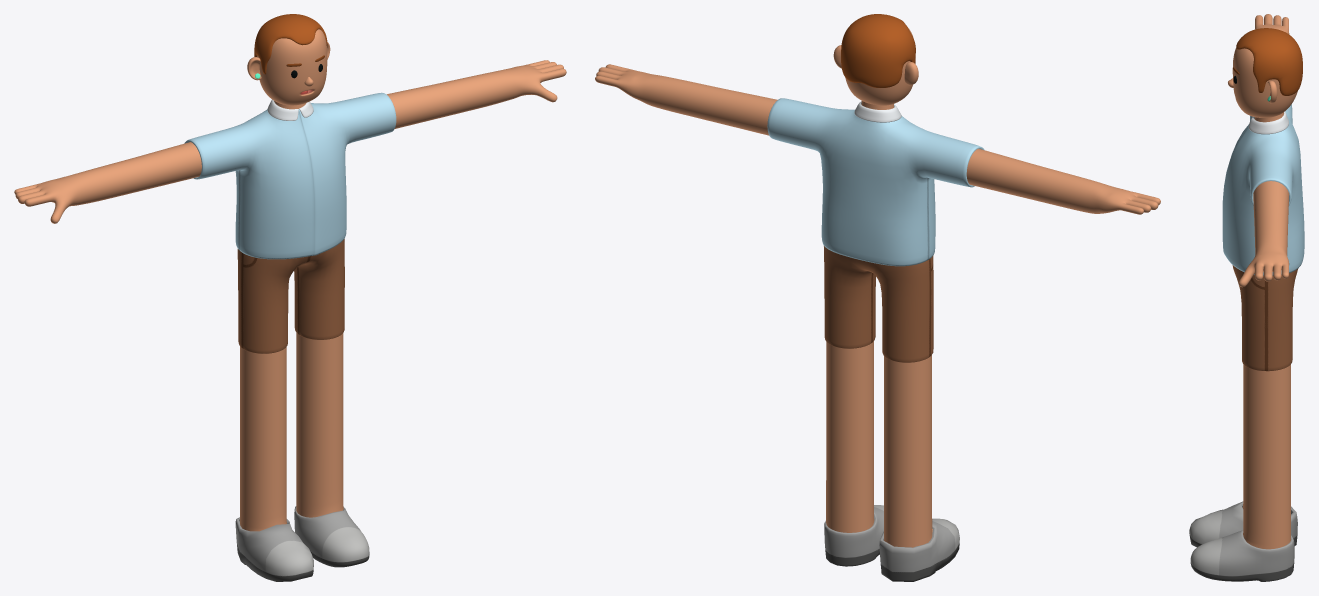
The model's file is BOY 2.fbx.
3 views of the same model, side by side, from view 1: azimuth 30°, elevation 25°; view 2: azimuth 150°, elevation 25°; view 3: azimuth 270°, elevation 25° (orthographic). The views are drawn at different scales.
Visible parts, largest first — view 1: BOY_BODY.002, BOY 2_SHIRT, BOY 2_SHORTS, BOY_2_SHOES.R, BOY_2_SHOES.L, BOY 2_HAIR; view 2: BOY_BODY.002, BOY 2_SHIRT, BOY 2_SHORTS, BOY 2_HAIR, BOY_2_SHOES.R, BOY_2_SHOES.L; view 3: BOY_BODY.002, BOY 2_SHIRT, BOY 2_SHORTS, BOY_2_SHOES.L, BOY 2_HAIR, BOY_2_SHOES.R.
Part boxes in pixels (left/top/right/bottom): BOY_BODY.002: left=14, top=29, right=566, bottom=531; BOY 2_SHIRT: left=184, top=92, right=396, bottom=259; BOY 2_SHORTS: left=237, top=239, right=344, bottom=353; BOY_2_SHOES.R: left=235, top=517, right=313, bottom=581; BOY_2_SHOES.L: left=294, top=506, right=369, bottom=567; BOY 2_HAIR: left=254, top=14, right=327, bottom=74; BOY_BODY.002: left=595, top=26, right=1160, bottom=547; BOY 2_SHIRT: left=767, top=98, right=984, bottom=266; BOY 2_SHORTS: left=824, top=246, right=933, bottom=362; BOY 2_HAIR: left=841, top=14, right=915, bottom=87; BOY_2_SHOES.R: left=879, top=518, right=959, bottom=581; BOY_2_SHOES.L: left=824, top=505, right=883, bottom=566; BOY_BODY.002: left=1228, top=14, right=1297, bottom=549; BOY 2_SHIRT: left=1222, top=104, right=1304, bottom=275; BOY 2_SHORTS: left=1232, top=265, right=1298, bottom=371; BOY_2_SHOES.L: left=1190, top=530, right=1294, bottom=581; BOY 2_HAIR: left=1236, top=28, right=1302, bottom=95; BOY_2_SHOES.R: left=1189, top=501, right=1297, bottom=547.
Bounding box in the file's own units: 205 × 191 × 37.89.
10 materials, 7 textured.
